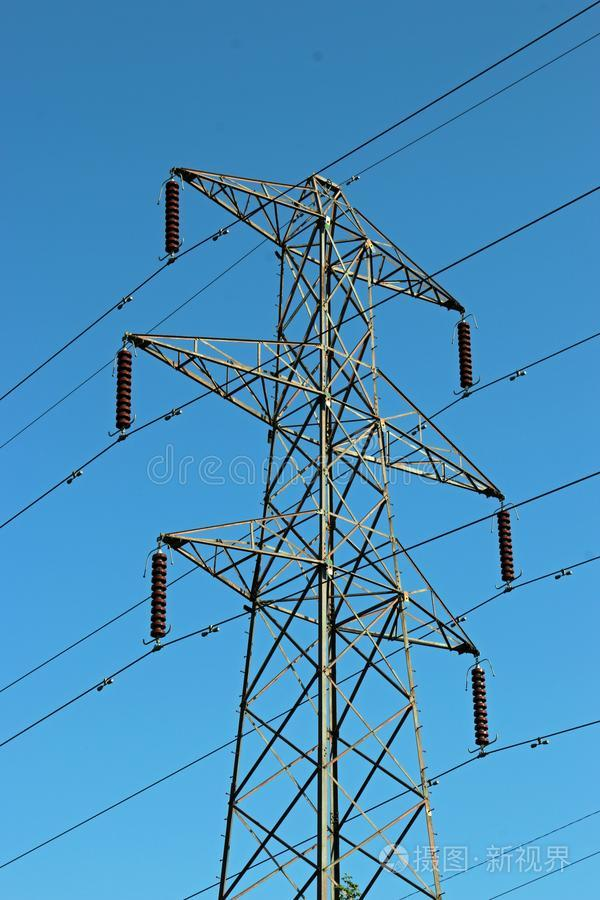insulator: (147, 550, 169, 639), (493, 509, 518, 583), (470, 666, 489, 750), (112, 350, 132, 429), (161, 177, 182, 252), (455, 317, 474, 391)
